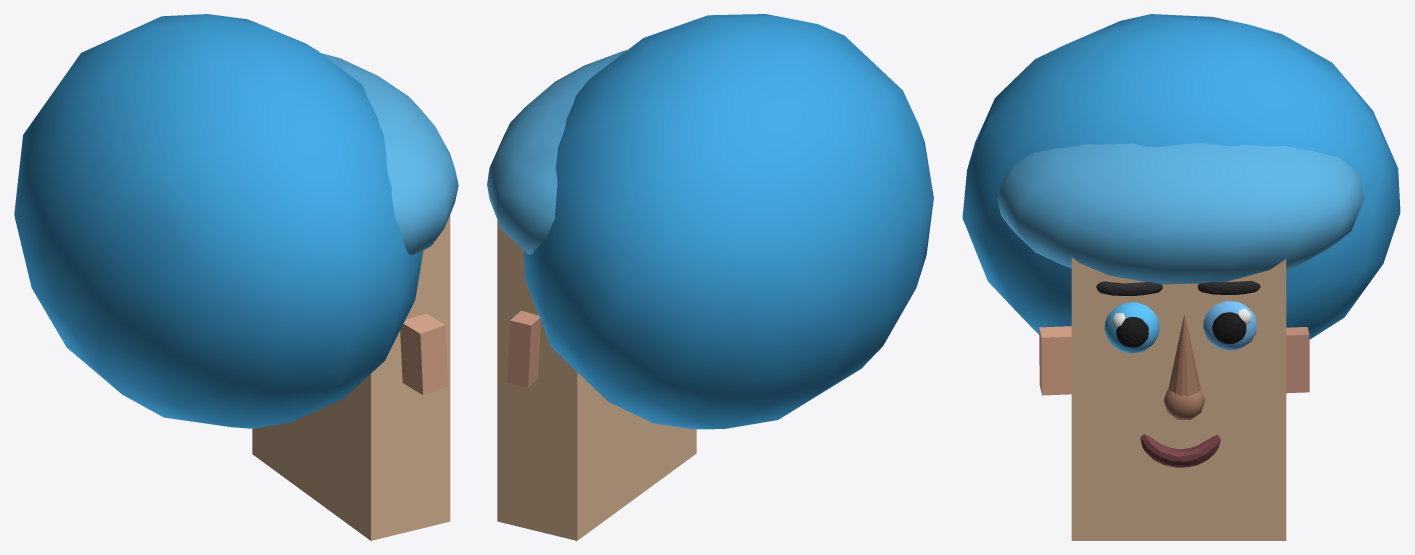
File: human head.dae
The picture shows the model from 3 angles, left to right: view 1: azimuth 30°, elevation 25°; view 2: azimuth 150°, elevation 25°; view 3: azimuth 270°, elevation 25°; orthographic projection. The views are drawn at different scales.
Parts seen in each view (by area): view 1: Sphere_003; view 2: Sphere_003; view 3: Sphere_003.
Boxes of the visible parts, x1,y1,x2,y2 form: Sphere_003: [14, 14, 458, 540]; Sphere_003: [487, 14, 933, 540]; Sphere_003: [962, 14, 1400, 540].
Size of the model in its own units: 0.5557 by 0.6327 by 0.6945.
